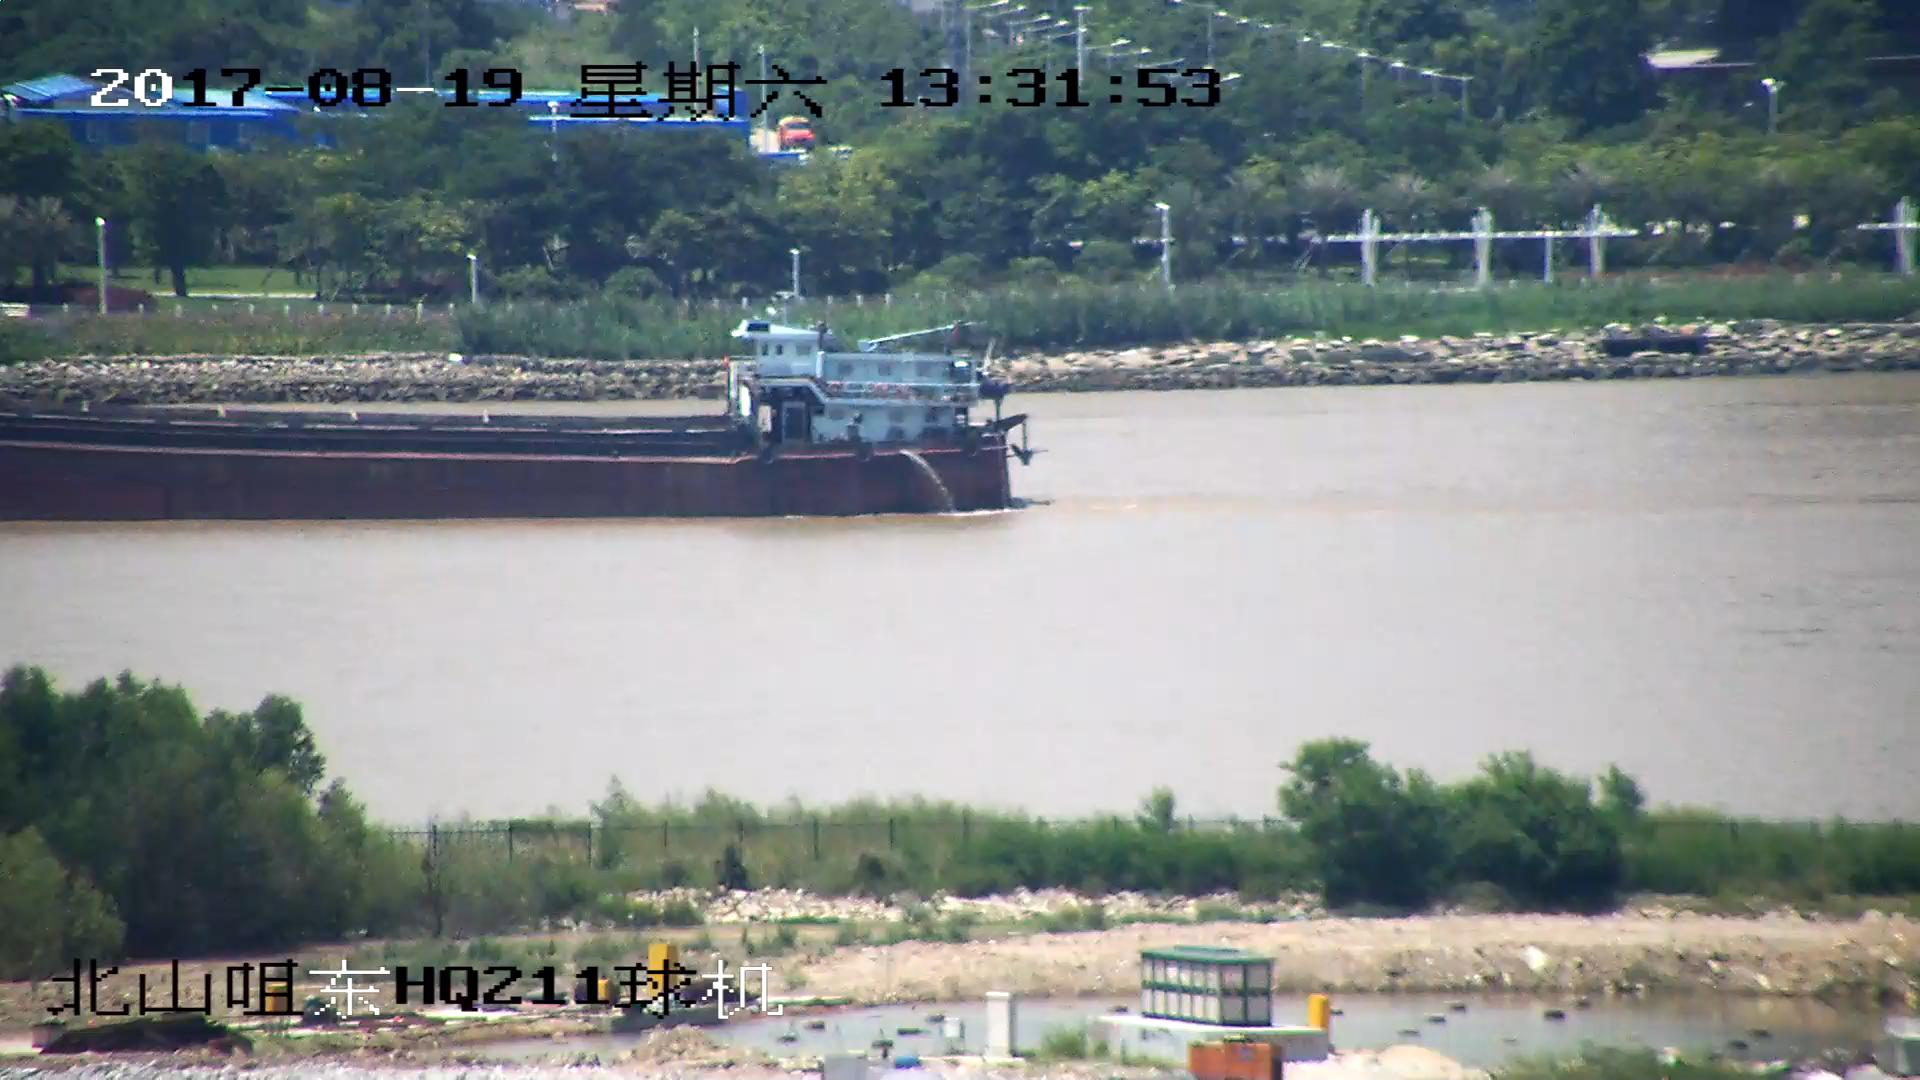bulk cargo carrier: (1, 293, 1034, 519)
